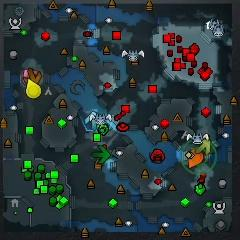p4: (25, 78, 41, 99)
p5: (188, 148, 205, 170)
x1: (21, 68, 37, 82)
x2: (197, 139, 212, 155)
x3: (85, 111, 99, 131)
x4: (92, 145, 110, 164)
x5: (24, 69, 42, 84)
